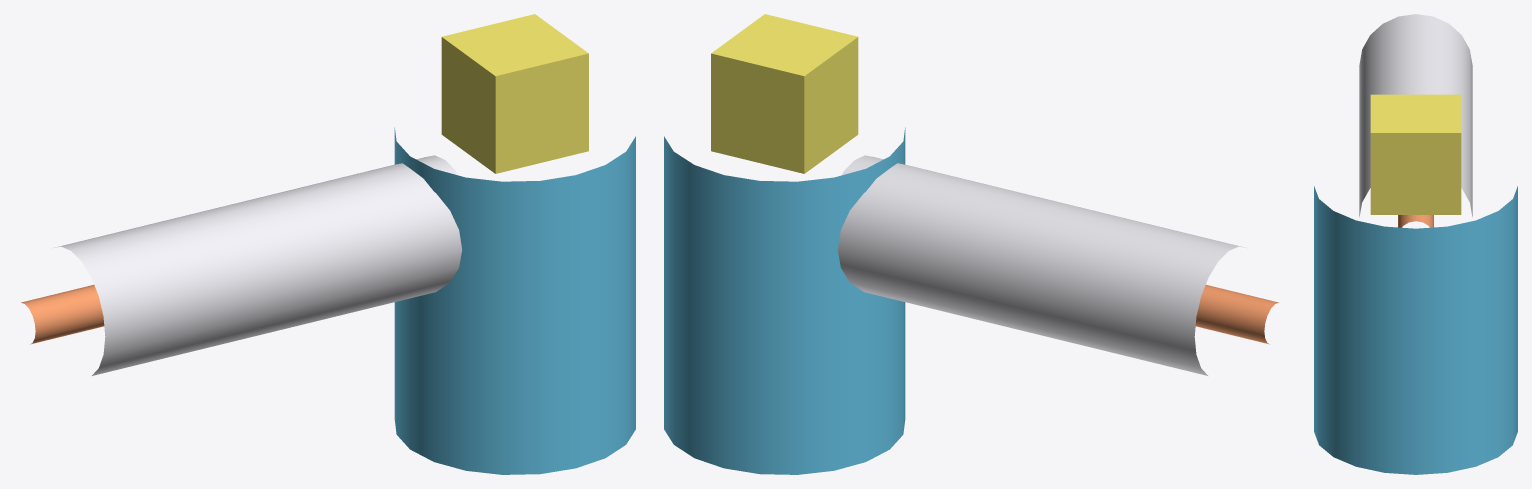
The model's file is electrical_measurement_control.glb.
3 views of the same model, side by side, from view 1: azimuth 30°, elevation 25°; view 2: azimuth 150°, elevation 25°; view 3: azimuth 270°, elevation 25° (orthographic). The views are drawn at different scales.
Visible parts, largest first — view 1: PIDControlProcessTank, LVDTTransducerBarrel, ServoControlValveActuator, MovableFerroCoreShaft; view 2: PIDControlProcessTank, LVDTTransducerBarrel, ServoControlValveActuator, MovableFerroCoreShaft; view 3: PIDControlProcessTank, ServoControlValveActuator, LVDTTransducerBarrel, MovableFerroCoreShaft.
Part boxes in pixels (x1,y1,x2,y2): PIDControlProcessTank: [394, 127, 635, 474]; LVDTTransducerBarrel: [55, 155, 462, 375]; ServoControlValveActuator: [441, 14, 588, 173]; MovableFerroCoreShaft: [21, 284, 104, 344]; PIDControlProcessTank: [664, 127, 905, 474]; LVDTTransducerBarrel: [837, 155, 1244, 375]; ServoControlValveActuator: [711, 14, 858, 173]; MovableFerroCoreShaft: [1195, 284, 1278, 344]; PIDControlProcessTank: [1314, 186, 1517, 474]; ServoControlValveActuator: [1370, 94, 1461, 214]; LVDTTransducerBarrel: [1359, 14, 1472, 217]; MovableFerroCoreShaft: [1398, 215, 1433, 227].
Size of the model in its own units: 2.55 by 1.55 by 0.9.
